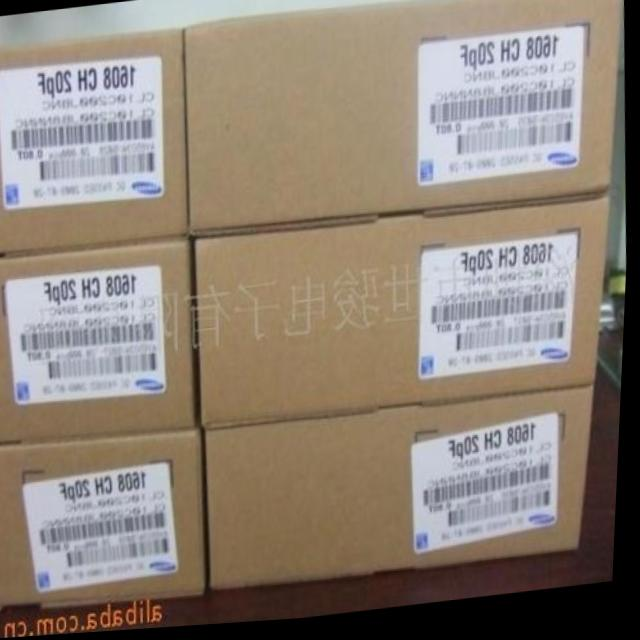box: (185, 0, 621, 239), (197, 204, 612, 431), (208, 397, 598, 595), (0, 30, 191, 254), (0, 242, 202, 446), (0, 430, 211, 611)
